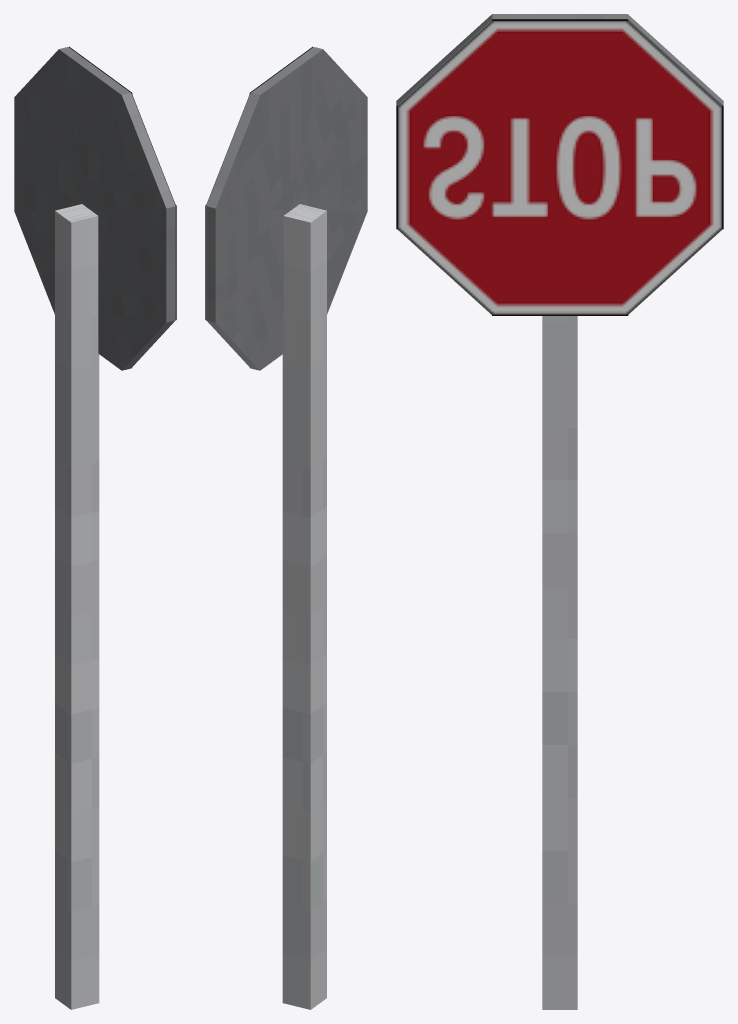
Rendered from signstop.obj.
The picture shows the model from 3 angles, left to right: view 1: azimuth 30°, elevation 25°; view 2: azimuth 150°, elevation 25°; view 3: azimuth 270°, elevation 25°; orthographic projection. The views are drawn at different scales.
Parts seen in each view (by area): view 1: cube, cylinder, plane; view 2: cube, cylinder, plane; view 3: plane, cube, cylinder.
Part boxes in pixels (x1,y1,x2,y2): cube: (55,204,99,1009); cylinder: (14,47,175,370); plane: (69,46,176,367); cube: (282,204,326,1009); cylinder: (206,47,367,370); plane: (205,46,312,367); plane: (396,19,723,315); cube: (542,316,577,1009); cylinder: (396,14,723,314).
Size of the model in its own units: 0.125 by 2.94 by 0.875.
3 materials, 3 textured.
